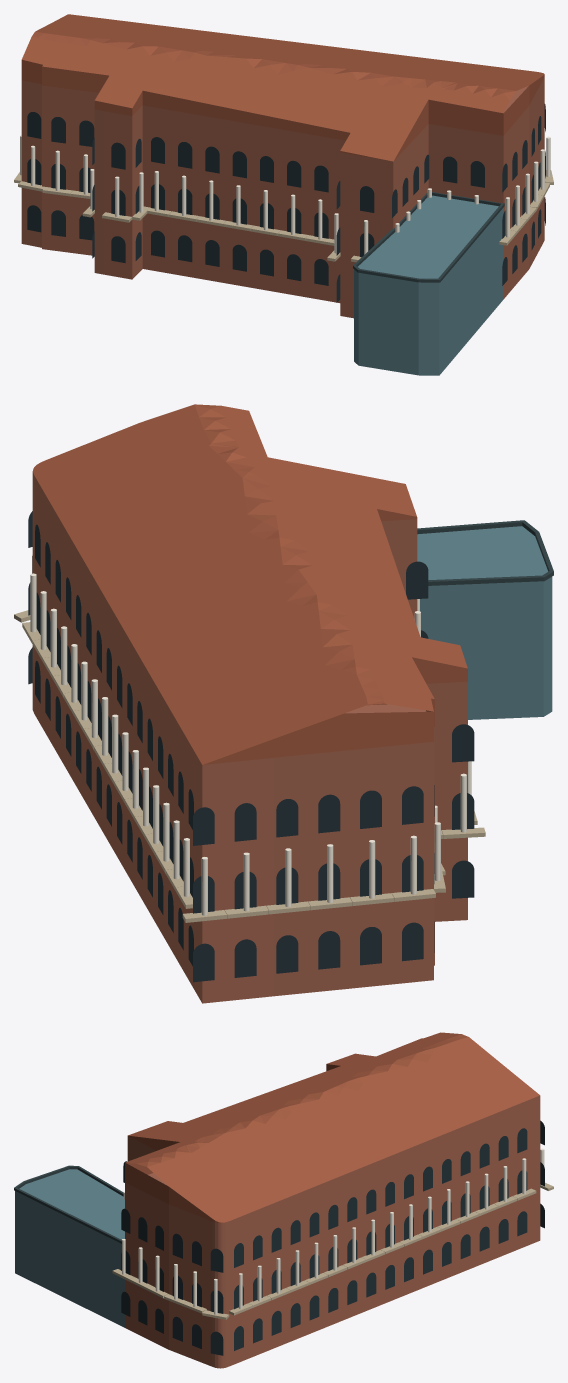
The model's file is palau-musica.glb.
3 views of the same model, one above another, from view 1: azimuth 30°, elevation 25°; view 2: azimuth 150°, elevation 25°; view 3: azimuth 270°, elevation 25° (orthographic). The views are drawn at different scales.
Parts seen in each view (by area): view 1: concert-hall-envelope, roof, modern-petit-palau-annex, facade-windows, polychrome-balcony-columns, balcony-base, cornice; view 2: roof, concert-hall-envelope, facade-windows, modern-petit-palau-annex, polychrome-balcony-columns, balcony-base, cornice; view 3: concert-hall-envelope, roof, facade-windows, modern-petit-palau-annex, polychrome-balcony-columns, balcony-base, cornice.
Part boxes in pixels (x1=…): concert-hall-envelope: x1=21, y1=77, x2=544, y2=318; roof: x1=21, y1=14, x2=544, y2=161; modern-petit-palau-annex: x1=354, y1=195, x2=503, y2=375; facade-windows: x1=27, y1=104, x2=545, y2=302; polychrome-balcony-columns: x1=20, y1=135, x2=550, y2=254; balcony-base: x1=14, y1=170, x2=553, y2=262; cornice: x1=353, y1=192, x2=504, y2=282; roof: x1=32, y1=404, x2=467, y2=764; concert-hall-envelope: x1=32, y1=472, x2=467, y2=1003; facade-windows: x1=28, y1=511, x2=474, y2=982; modern-petit-palau-annex: x1=417, y1=526, x2=552, y2=719; polychrome-balcony-columns: x1=30, y1=554, x2=471, y2=915; balcony-base: x1=14, y1=610, x2=485, y2=922; cornice: x1=417, y1=520, x2=553, y2=585; concert-hall-envelope: x1=125, y1=1095, x2=540, y2=1368; roof: x1=125, y1=1032, x2=539, y2=1223; facade-windows: x1=121, y1=1120, x2=544, y2=1355; modern-petit-palau-annex: x1=15, y1=1169, x2=124, y2=1327; polychrome-balcony-columns: x1=122, y1=1148, x2=544, y2=1314; balcony-base: x1=112, y1=1182, x2=553, y2=1319; cornice: x1=14, y1=1165, x2=123, y2=1243.
Size of the model in its own units: 12.6 by 5.66 by 16.
